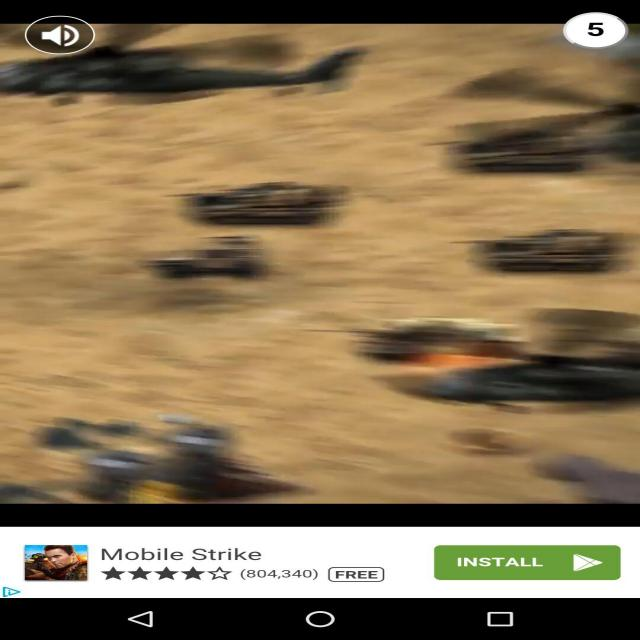button: (430, 548, 618, 583), (104, 599, 182, 635), (282, 602, 354, 631)
icon: (19, 17, 99, 60), (559, 10, 640, 51), (81, 565, 234, 586)
image: (6, 63, 616, 507), (455, 605, 535, 637)
text: (223, 564, 390, 586), (94, 544, 282, 562)
